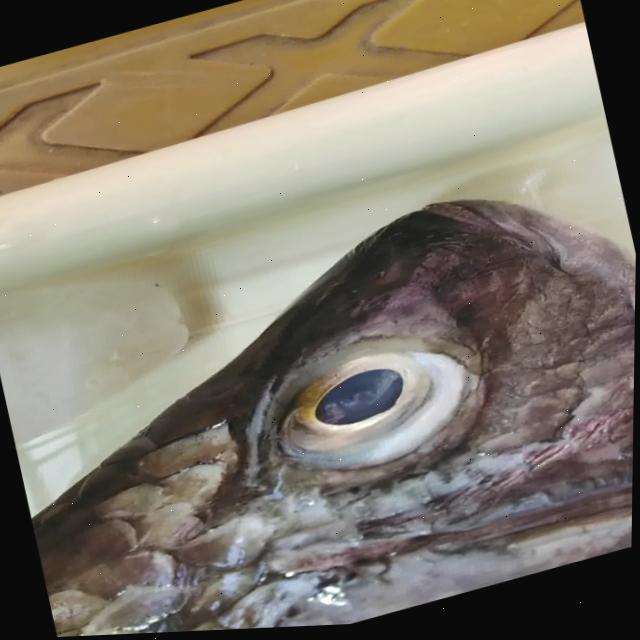Fresh: (217, 302, 493, 532)
